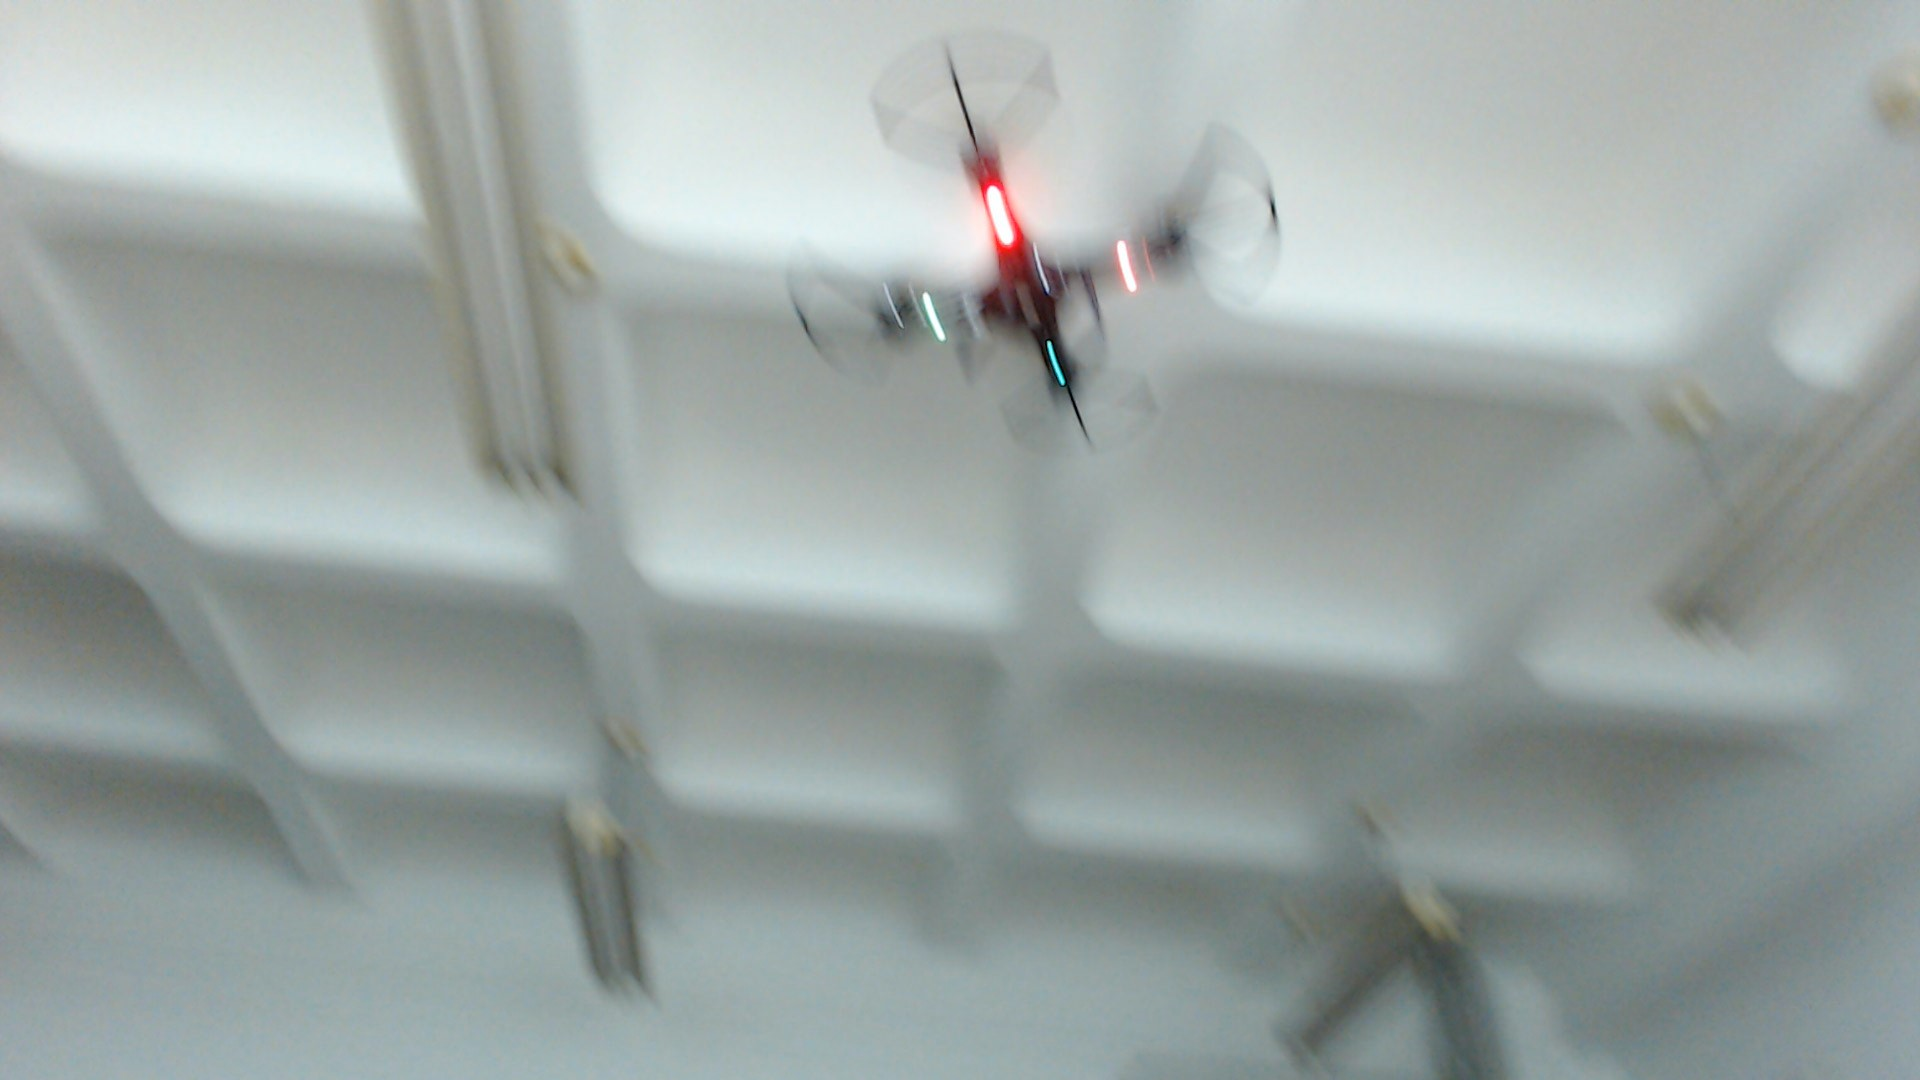drone: (775, 32, 1288, 465)
